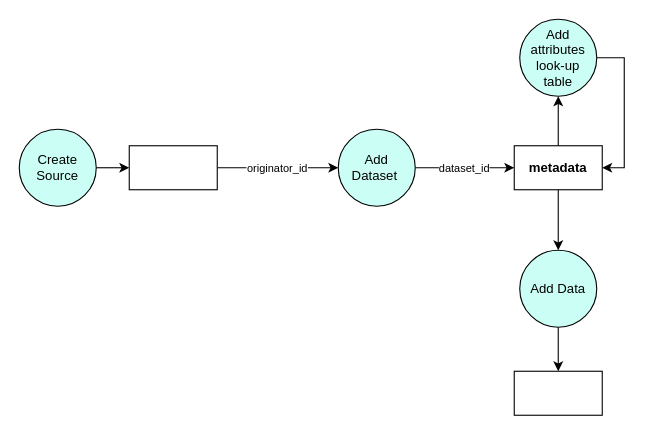
The diagram is 652 pixels wide and 435 high, and some of its shapes have lost their labels. The shapes that lost their labels are listed below. From the top down, each one's centre as x and y in pixels, then its label:
the point at 172,167: originators
the point at 557,392: bigdata
